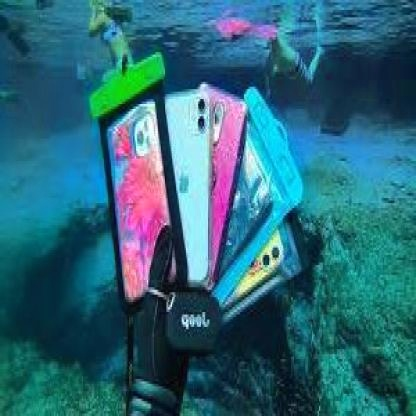cellphone: (176, 89, 251, 287), (105, 102, 179, 302), (155, 89, 215, 287)
